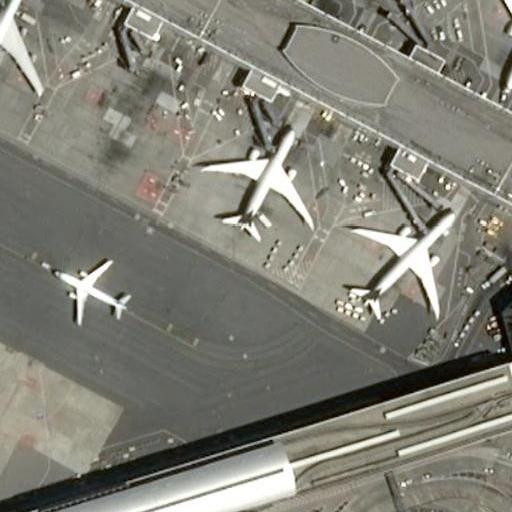Aircraft: (340, 185, 447, 325), (197, 116, 311, 238), (41, 253, 131, 320), (1, 0, 46, 98), (477, 0, 512, 97)
